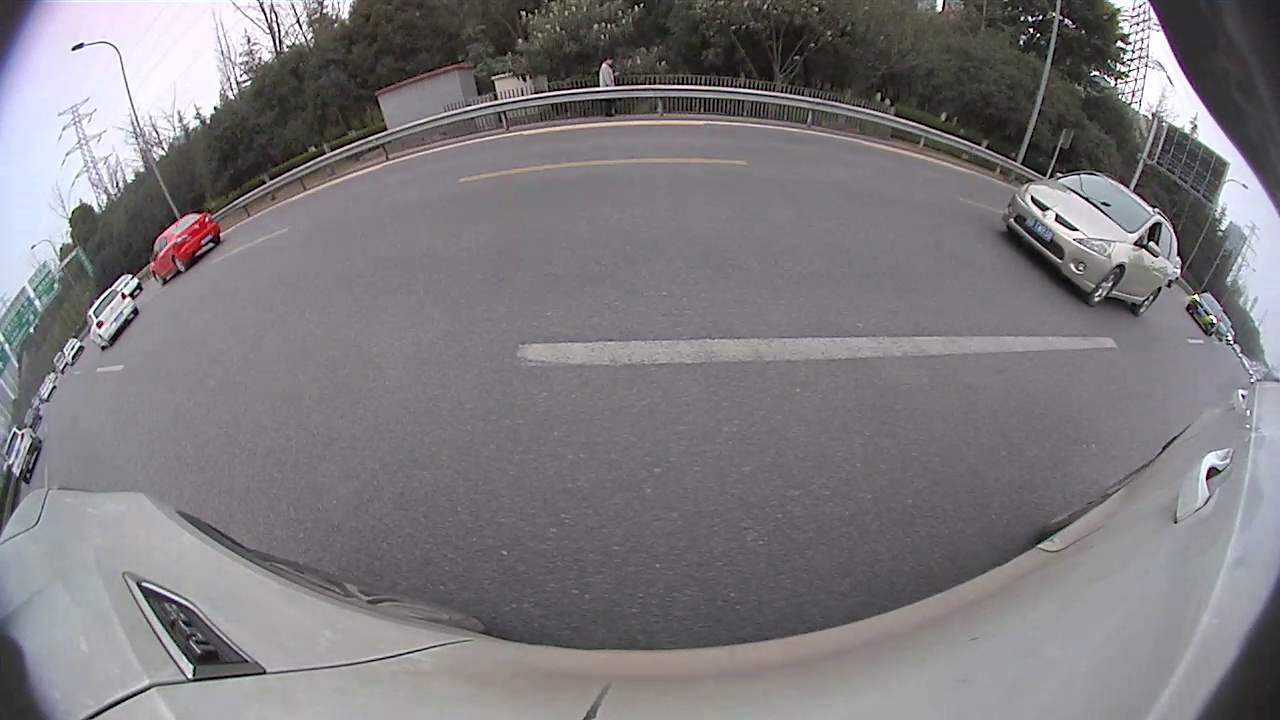bus: (900, 103, 1279, 407), (765, 127, 907, 206)
car: (12, 107, 455, 438), (883, 162, 1200, 343), (590, 125, 737, 231), (487, 153, 568, 204)
front: (416, 198, 456, 261), (889, 202, 924, 250), (775, 172, 787, 187)
rear: (147, 286, 266, 418), (1179, 308, 1253, 398), (1040, 264, 1097, 338), (828, 175, 842, 198), (542, 182, 554, 202)
